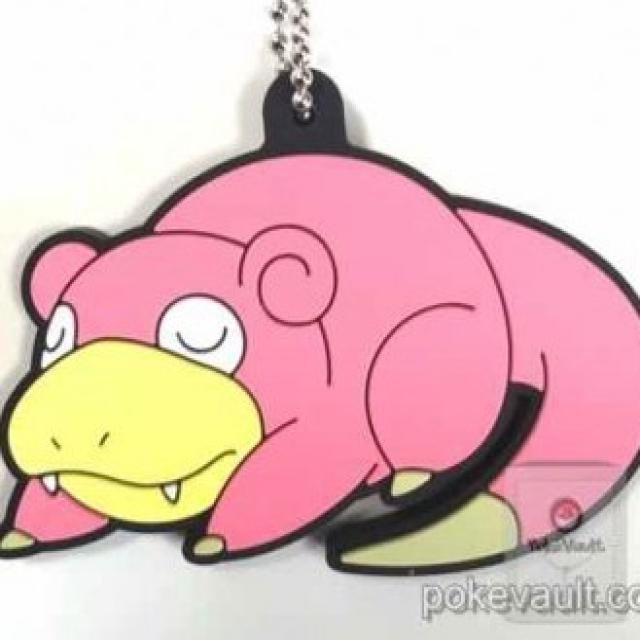Slowpoke: (0, 151, 631, 577)
